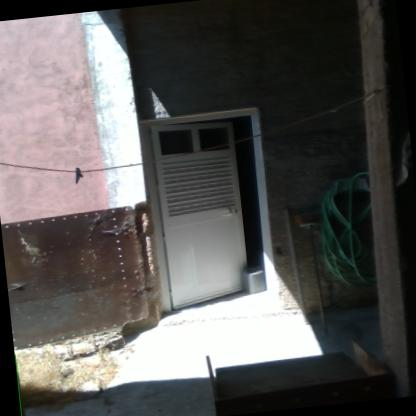semi: (127, 95, 289, 330)
